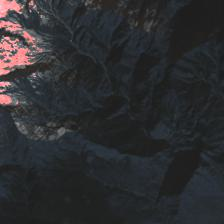landslides: (87, 174, 116, 188), (109, 46, 122, 56)
